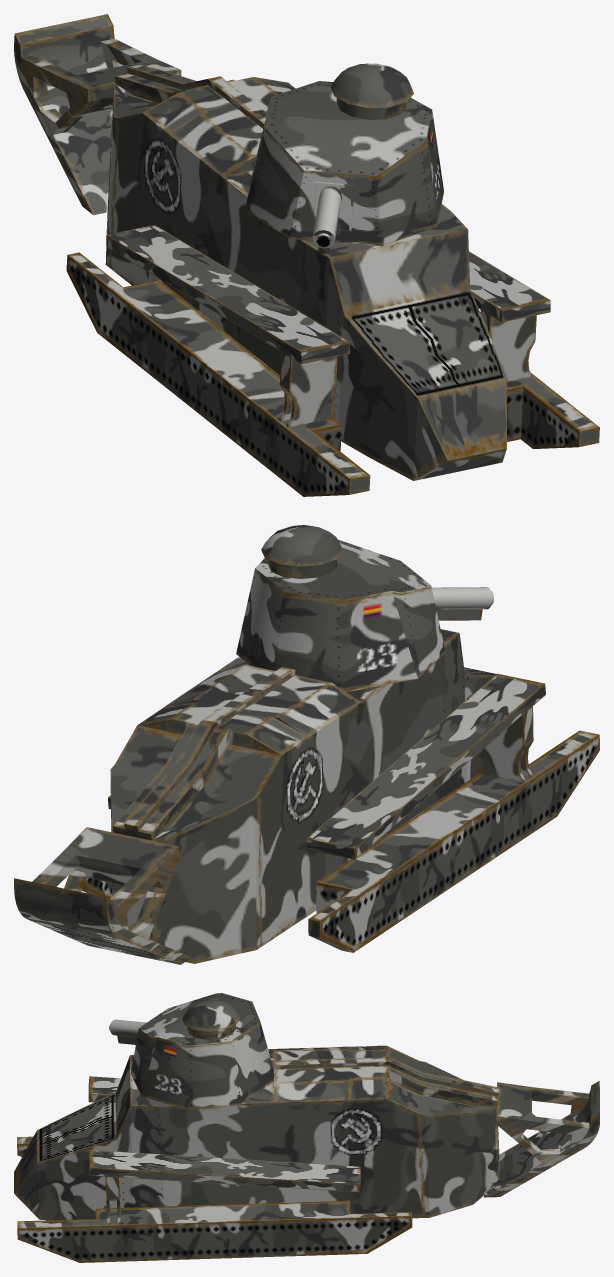
Rendered from esrRFT17_Destroyed.dae.
3 renders of one model, top to bottom at view 1: azimuth 30°, elevation 25°; view 2: azimuth 150°, elevation 25°; view 3: azimuth 270°, elevation 25°, orthographic. The views are drawn at different scales.
Parts seen in each view (by area): view 1: base, turret, barrel; view 2: base, turret, barrel; view 3: base, turret, barrel.
Part boxes in pixels (bbox=[...]): base: bbox=[14, 14, 599, 496]; turret: bbox=[244, 63, 443, 246]; barrel: bbox=[312, 186, 341, 253]; base: bbox=[14, 629, 599, 964]; turret: bbox=[236, 525, 445, 692]; barrel: bbox=[432, 587, 493, 620]; base: bbox=[14, 1045, 599, 1262]; turret: bbox=[130, 993, 274, 1109]; barrel: bbox=[109, 1019, 146, 1044].
Size of the model in its own units: 18.27 by 52.2 by 22.57.
